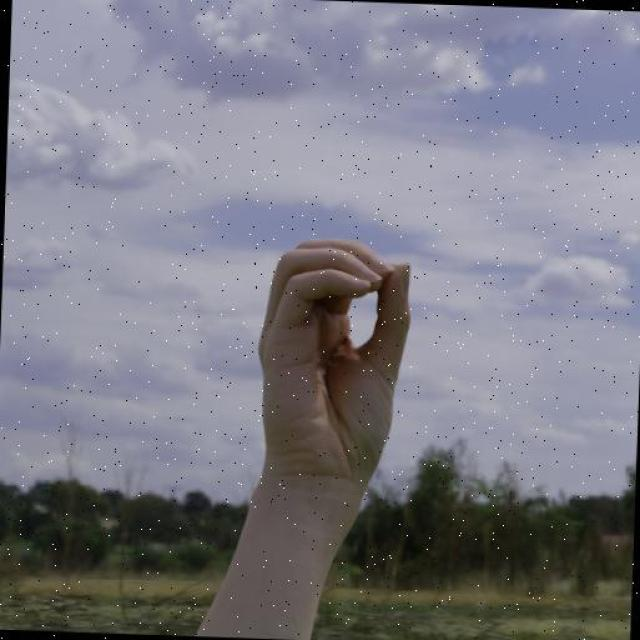O: (247, 232, 418, 488)
